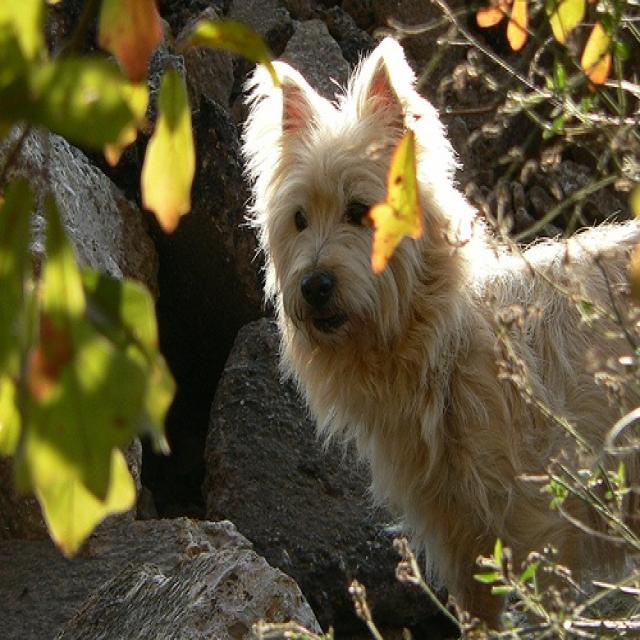dog: (239, 44, 639, 635)
